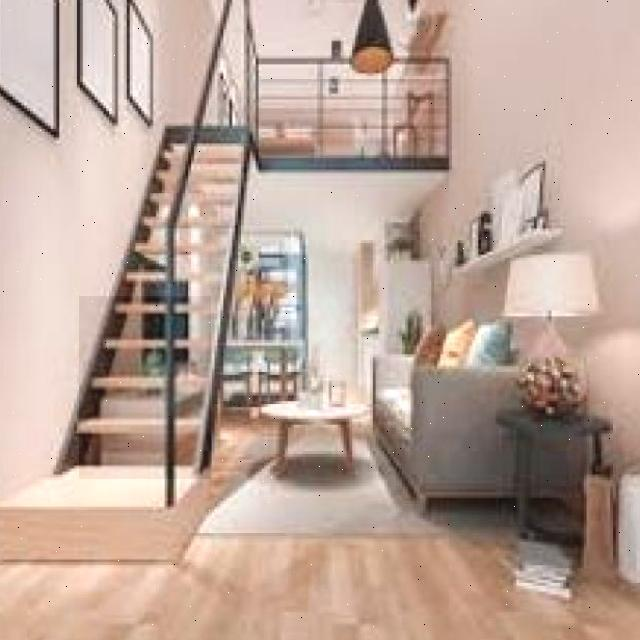stair: (79, 296, 211, 479)
